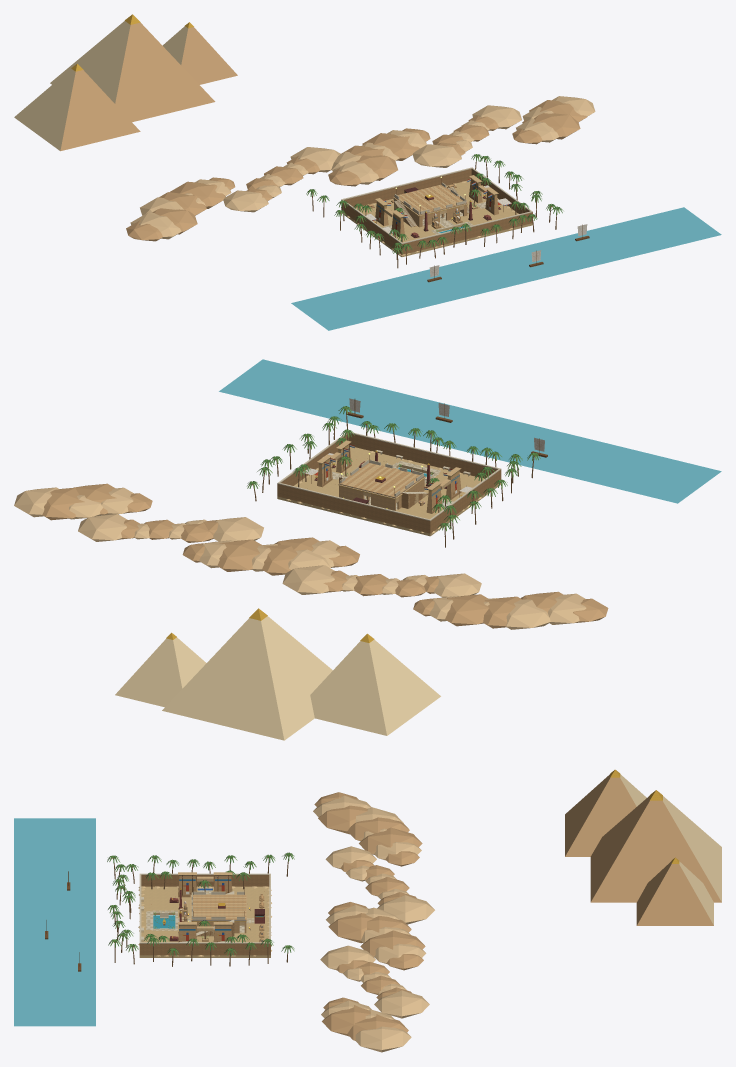
The model's file is suntemple_visual.glb.
3 renders of one model, top to bottom at view 1: azimuth 30°, elevation 25°; view 2: azimuth 150°, elevation 25°; view 3: azimuth 270°, elevation 25°, orthographic. The views are drawn at different scales.
Visible parts, largest first — view 1: DETAIL_chapter_craft, BATCH_main, VIS_floor_north; view 2: DETAIL_chapter_craft, BATCH_main, VIS_floor_north, VIS_floor_south; view 3: DETAIL_chapter_craft, BATCH_main, VIS_floor_north, VIS_floor_court_-1, VIS_floor_south.
Part boxes in pixels (x1,y1,x2,y2): DETAIL_chapter_craft: (14,14,721,330); BATCH_main: (341,167,532,254); VIS_floor_north: (342,180,512,244); DETAIL_chapter_craft: (14,359,721,740); BATCH_main: (277,432,501,533); VIS_floor_north: (277,460,481,536); VIS_floor_south: (350,446,500,489); DETAIL_chapter_craft: (14,769,721,1052); BATCH_main: (139,872,270,955); VIS_floor_north: (175,886,270,957); VIS_floor_court_-1: (153,886,175,914); VIS_floor_south: (139,886,153,957).
Size of the model in its own units: 222 by 37.74 by 259.
39 materials, 16 textured.
